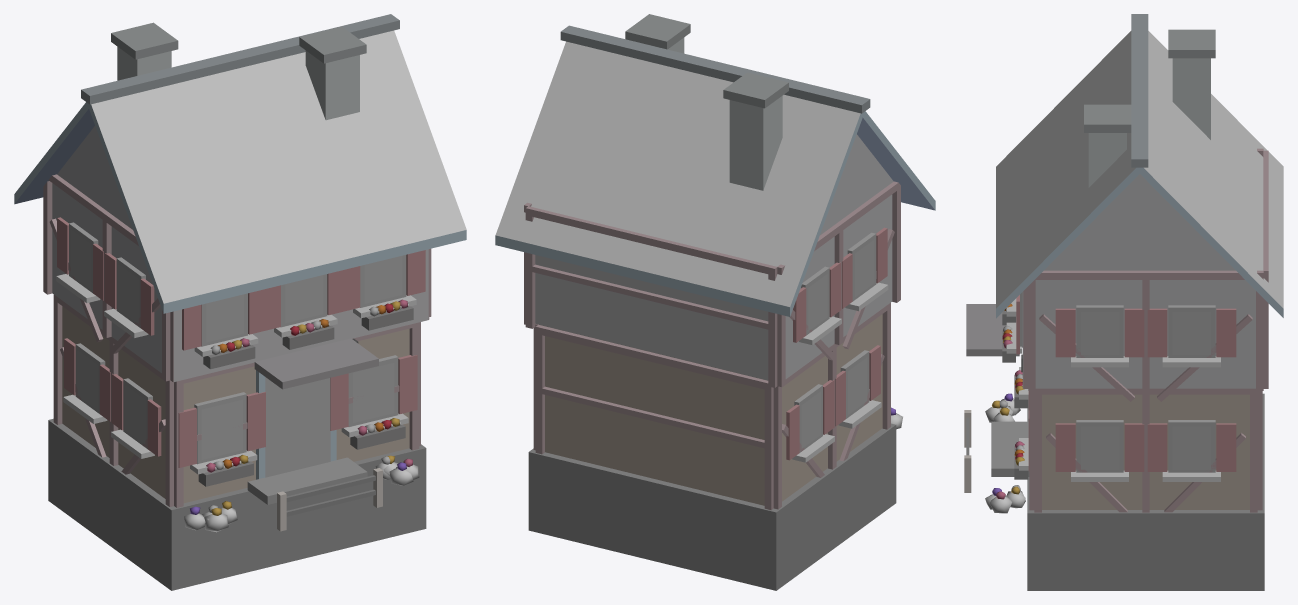
The model's file is house_c.glb.
3 views of the same model, side by side, from view 1: azimuth 30°, elevation 25°; view 2: azimuth 150°, elevation 25°; view 3: azimuth 270°, elevation 25° (orthographic). The views are drawn at different scales.
Visible parts, largest first — view 1: house_c; view 2: house_c; view 3: house_c.
Part boxes in pixels (x1,y1,x2,y2): house_c: [14, 14, 466, 590]; house_c: [495, 14, 935, 590]; house_c: [964, 14, 1283, 590].
Size of the model in its own units: 4.5 by 6.62 by 4.17.
